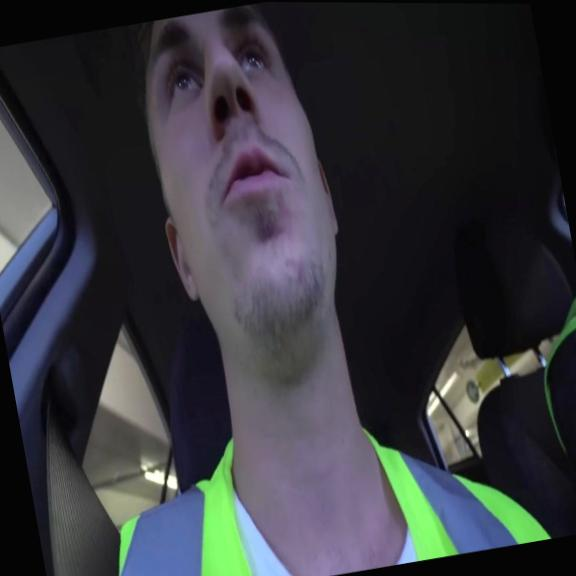safety_vest: (90, 381, 556, 576)
